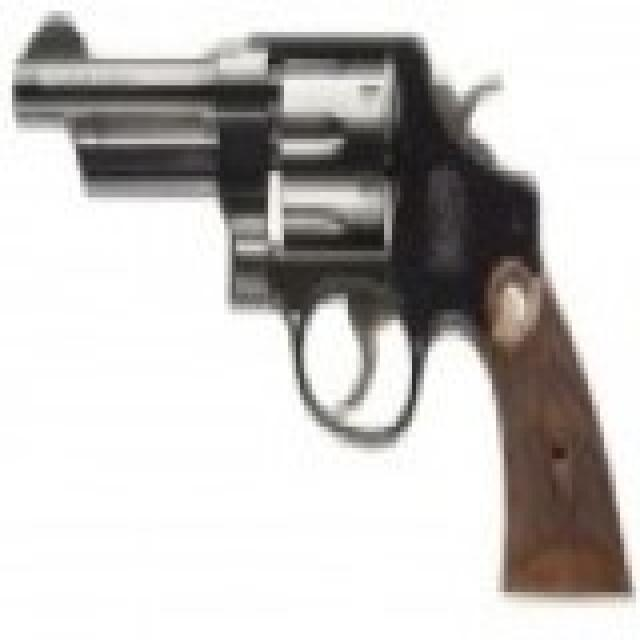pistol: (24, 0, 636, 581)
